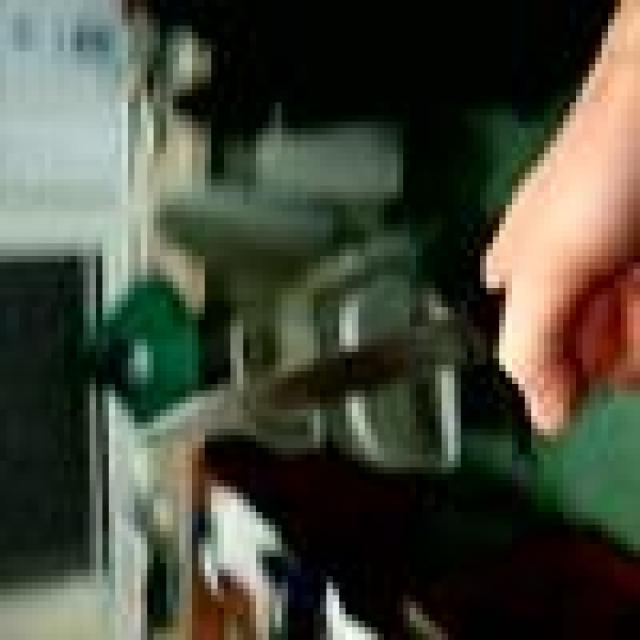weapon: (217, 236, 640, 422)
